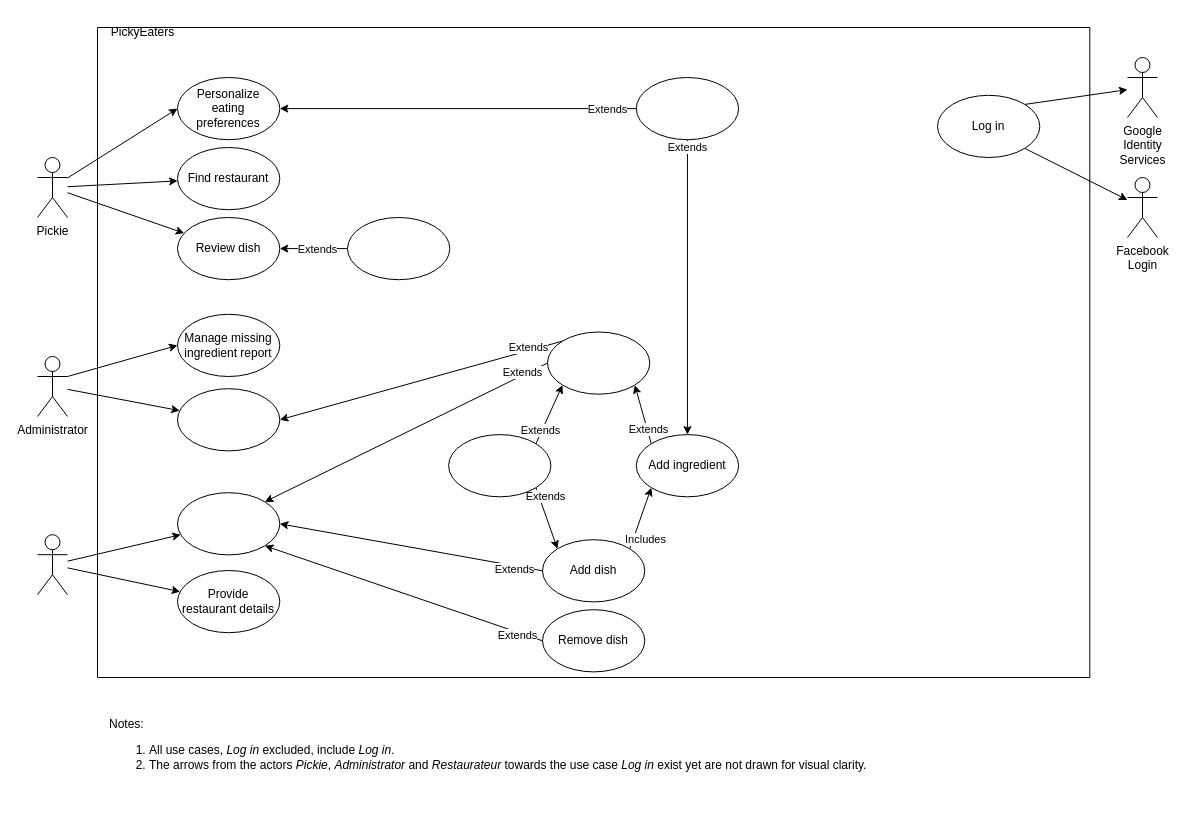
The diagram is 1186 pixels wide and 824 high, and some of its shapes have lost their labels. Each missing label, with the centre of its shape:
"Manage dish report" goes at point 228,419.
"Provide menu details" goes at point 228,523.
"Remove ingredient" goes at point 499,465.
"Report dish" goes at point 398,248.
"Report missing ingredient" goes at point 687,108.
"Restaurateur" goes at point 52,564.
"Update dish" goes at point 598,362.
